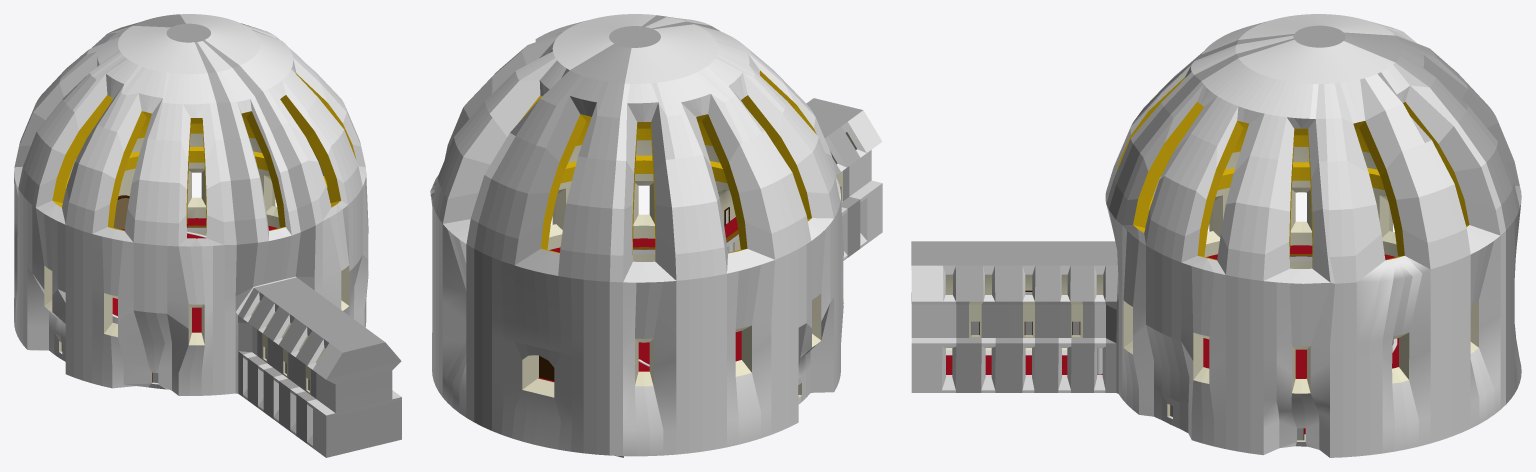
The model's file is GreatRoom6.fbx.
3 views of the same model, side by side, from view 1: azimuth 30°, elevation 25°; view 2: azimuth 150°, elevation 25°; view 3: azimuth 270°, elevation 25° (orthographic). The views are drawn at different scales.
Parts seen in each view (by area): view 1: mesh_mainbuilding, GreatDoor; view 2: mesh_mainbuilding; view 3: mesh_mainbuilding.
Part boxes in pixels (x1,y1,x2,y2): mesh_mainbuilding: [14, 14, 401, 457]; GreatDoor: [113, 195, 129, 229]; mesh_mainbuilding: [430, 14, 882, 456]; mesh_mainbuilding: [911, 14, 1521, 457].
Bounding box in the file's own units: 92.68 × 86.05 × 138.
